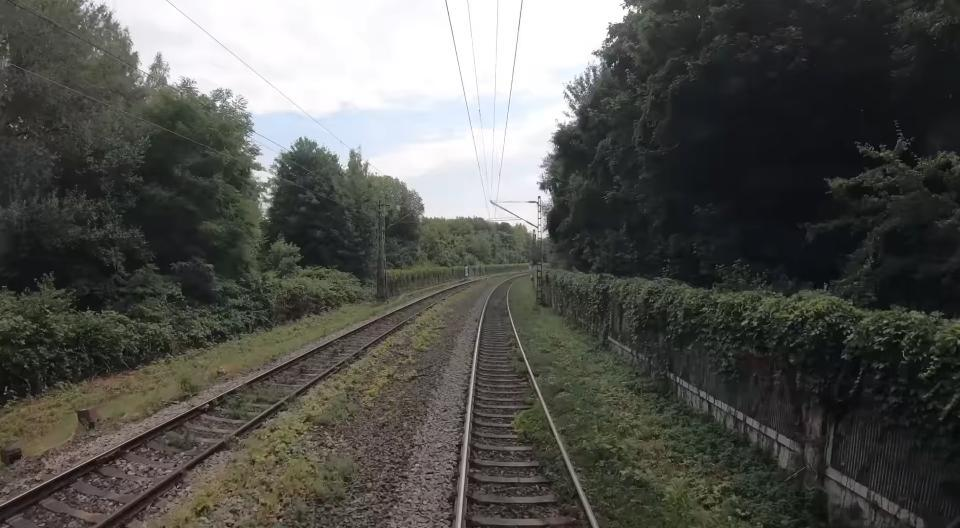Plant: (512, 284, 828, 528), (148, 291, 468, 528), (514, 395, 589, 528), (225, 382, 286, 421), (506, 328, 528, 379), (161, 431, 196, 451), (180, 377, 198, 397), (328, 343, 344, 358), (295, 362, 309, 374)
